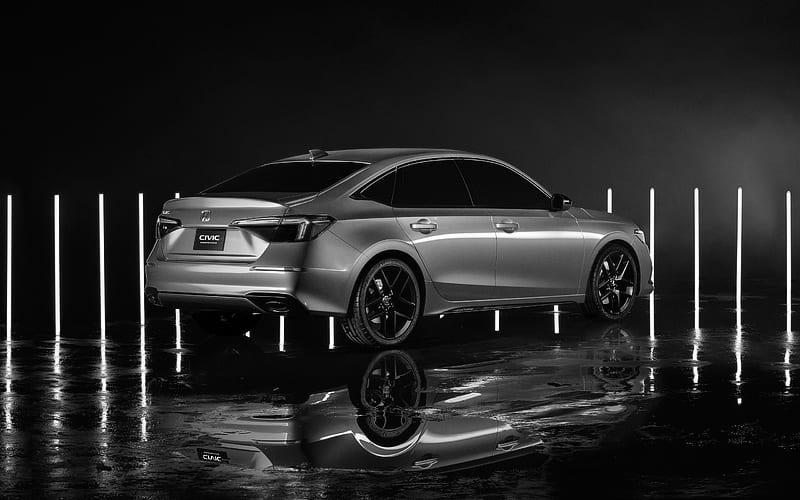Car boot: (149, 186, 321, 268)
Car hood: (579, 205, 646, 226)
Driver-s door - -F-R-: (467, 154, 585, 300)
Fender - -F-R-: (568, 206, 640, 300)
Fender - -R-R-: (325, 198, 434, 290)
Front bumper: (632, 235, 661, 300)
Headlight - -R-: (628, 222, 656, 249)
Passenger-s door - -R-R-: (390, 155, 495, 302)
Rear bumper: (139, 232, 373, 327)
Rear light - -L-: (150, 211, 184, 247)
Rear light - -R-: (225, 209, 339, 247)
Side bumper - -R-: (410, 277, 590, 323)
Side mirror - -R-: (539, 186, 578, 219)
